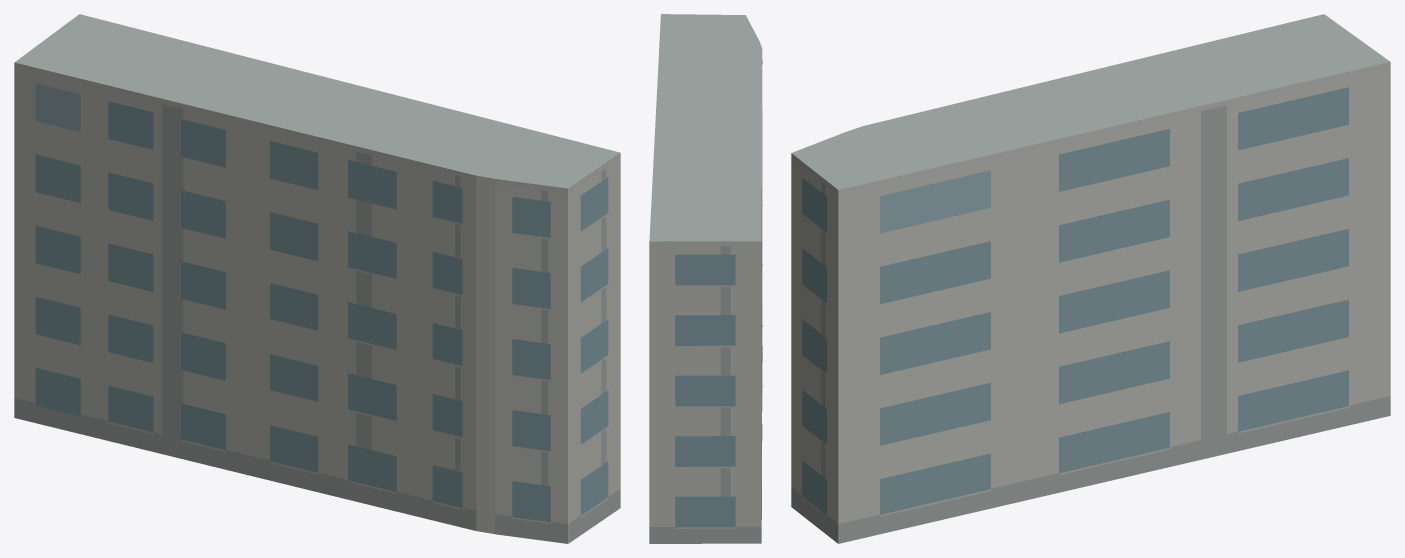
File: survey-upis-32973570.glb
The picture shows the model from 3 angles, left to right: view 1: azimuth 30°, elevation 25°; view 2: azimuth 150°, elevation 25°; view 3: azimuth 270°, elevation 25°; orthographic projection. The views are drawn at different scales.
Visible parts, largest first — view 1: survey-upis-32973570.tmp; view 2: survey-upis-32973570.tmp; view 3: survey-upis-32973570.tmp.
Part boxes in pixels (x1,y1,x2,y2): survey-upis-32973570.tmp: (14, 14, 620, 543); survey-upis-32973570.tmp: (649, 14, 762, 543); survey-upis-32973570.tmp: (791, 14, 1390, 543).
Bounding box in the file's own units: 16.86 × 15.8 × 24.26.
